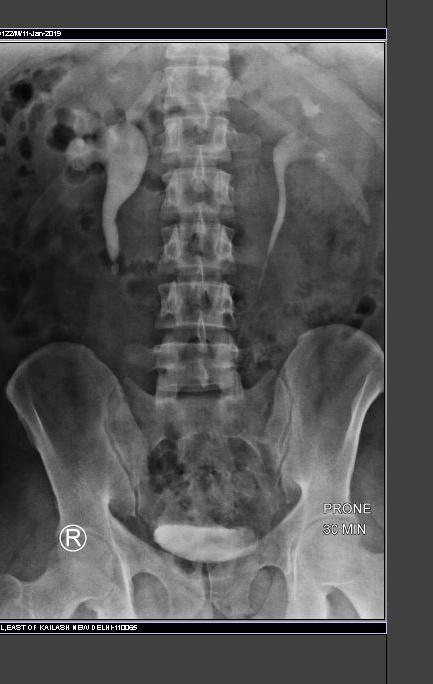bladder: (171, 553, 299, 614)
vertebrae: (185, 95, 266, 157)
